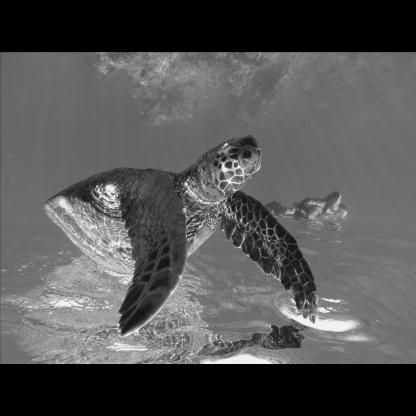turtle: (44, 132, 318, 338)
